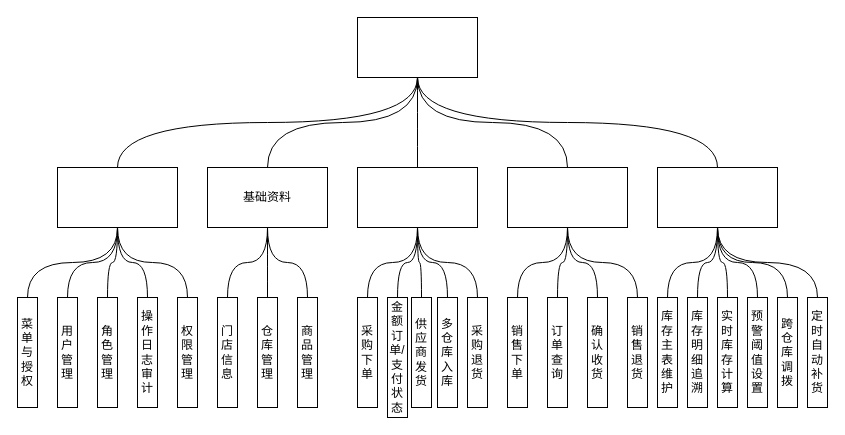
This 845x435 diagram has some shape labels left out. The shapes that lost their labels are listed below. From the top down, each one's centre as x and y in pixels, then its label:
At (x=417, y=47): "后台管理系统".
At (x=117, y=197): "系统管理".
At (x=417, y=197): "采购管理".
At (x=567, y=197): "销售与售后".
At (x=717, y=197): "库存与补货".
